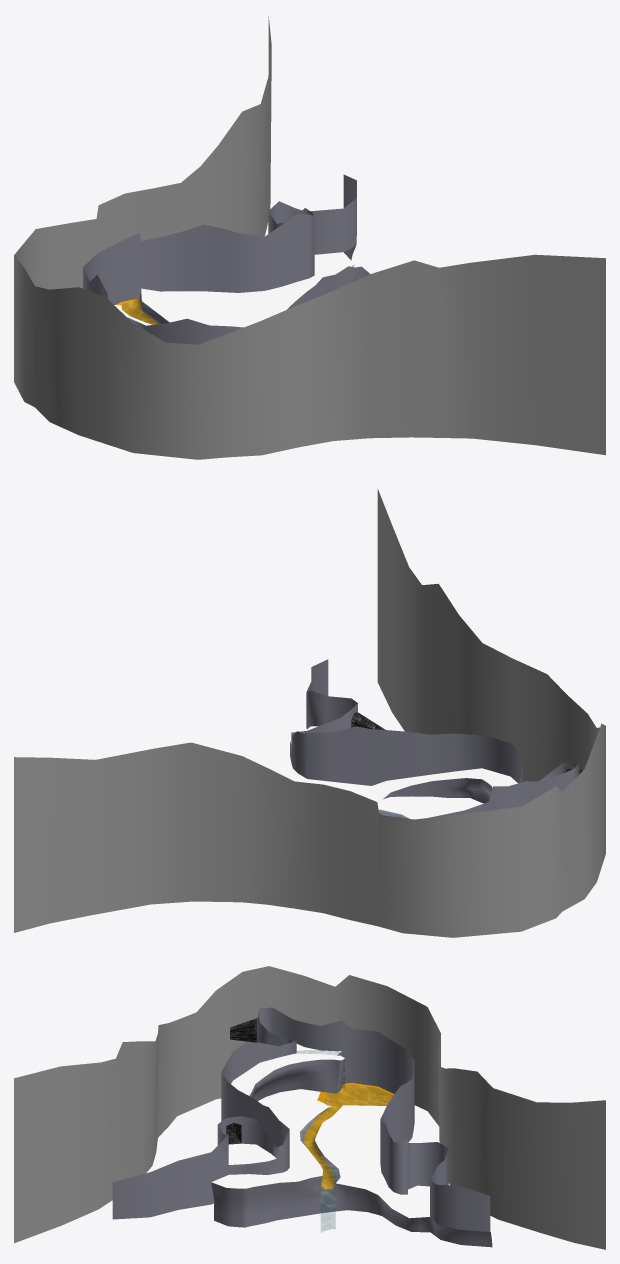
The model's file is hitherton_terrain.glb.
3 renders of one model, top to bottom at view 1: azimuth 30°, elevation 25°; view 2: azimuth 150°, elevation 25°; view 3: azimuth 270°, elevation 25°, orthographic. The views are drawn at different scales.
Parts seen in each view (by area): view 1: level curtain far viz, level curtain wall-col, level walkable area-col; view 2: level curtain far viz, level curtain wall-col, level walkable area-col; view 3: level curtain far viz, level curtain wall-col, level walkable area-col, lake_and_river, door of trials hallway-col.
Part boxes in pixels (left/top/right/bottom): level curtain far viz: left=14, top=17, right=605, bottom=459; level curtain wall-col: left=83, top=174, right=369, bottom=344; level walkable area-col: left=114, top=246, right=355, bottom=327; level curtain far viz: left=14, top=489, right=605, bottom=937; level curtain wall-col: left=290, top=659, right=579, bottom=820; level walkable area-col: left=264, top=726, right=517, bottom=819; level curtain far viz: left=14, top=966, right=605, bottom=1249; level curtain wall-col: left=112, top=1007, right=490, bottom=1231; level walkable area-col: left=211, top=1044, right=492, bottom=1247; lake_and_river: left=301, top=1084, right=392, bottom=1232; door of trials hallway-col: left=230, top=1017, right=259, bottom=1042.
Bounding box in the file's own units: 246 × 124 × 371.
Materials: 6 (2 with a texture image).
